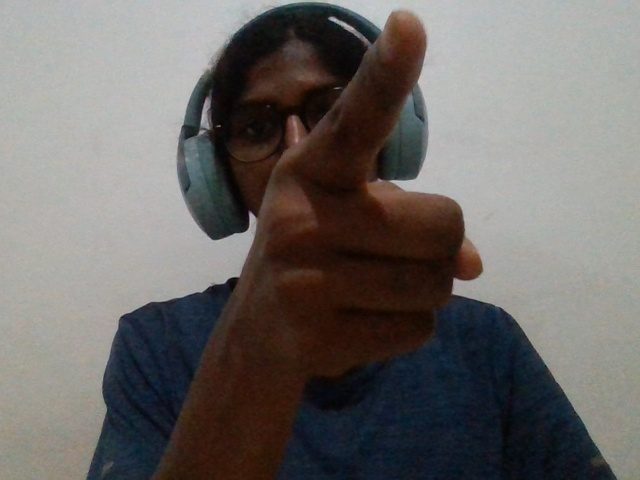You: (175, 1, 500, 442)
